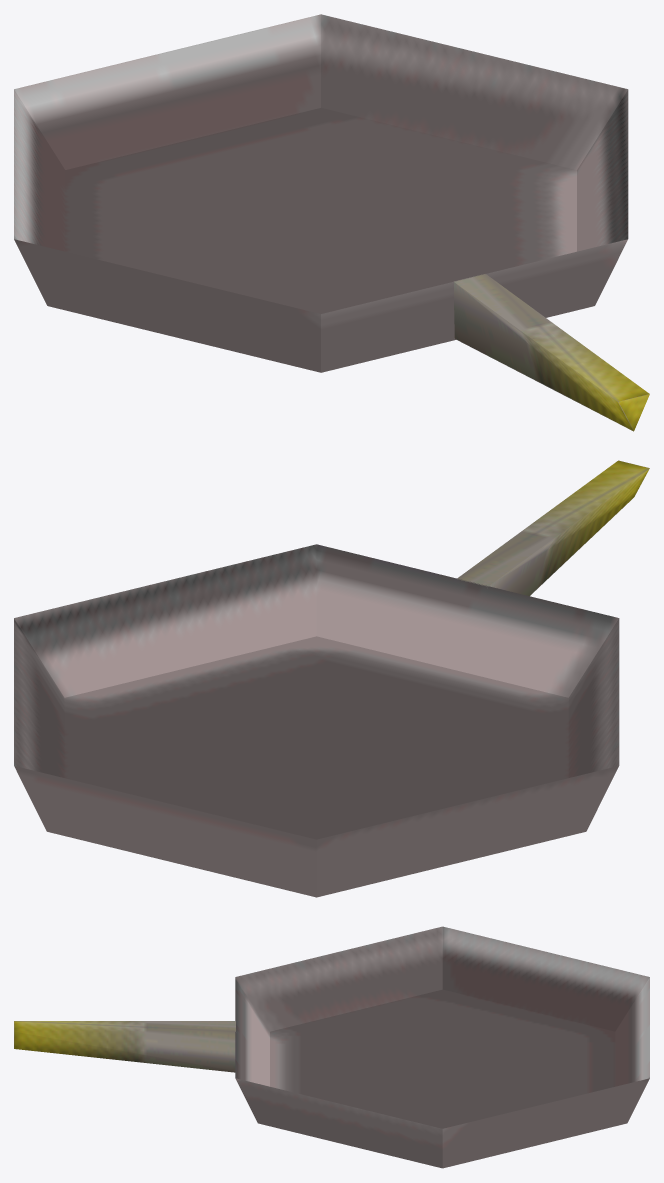
Rendered from pan.glb.
3 views of the same model, one above another, from view 1: azimuth 30°, elevation 25°; view 2: azimuth 150°, elevation 25°; view 3: azimuth 270°, elevation 25° (orthographic). The views are drawn at different scales.
Visible parts, largest first — view 1: pan; view 2: pan; view 3: pan.
Part boxes in pixels (box(x1,y1,x2,y2)): pan: box(14, 14, 649, 431); pan: box(14, 460, 649, 897); pan: box(14, 926, 649, 1168).
Size of the model in its own units: 103 by 11.97 by 136.
1 material, 1 textured.
